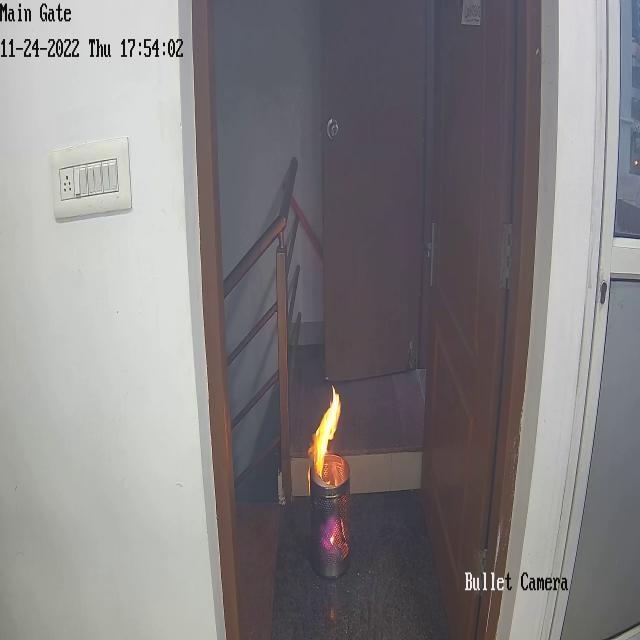fire: (306, 378, 356, 571)
smoke: (218, 3, 314, 139), (332, 2, 424, 108), (348, 132, 418, 245), (336, 210, 398, 308)
